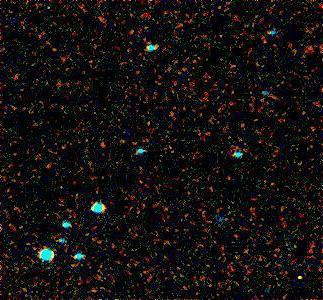star: (285, 263, 315, 293)
